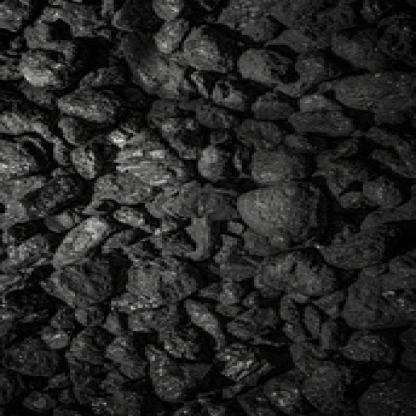Sedimentary_coal: (237, 178, 334, 236), (49, 211, 130, 268)
